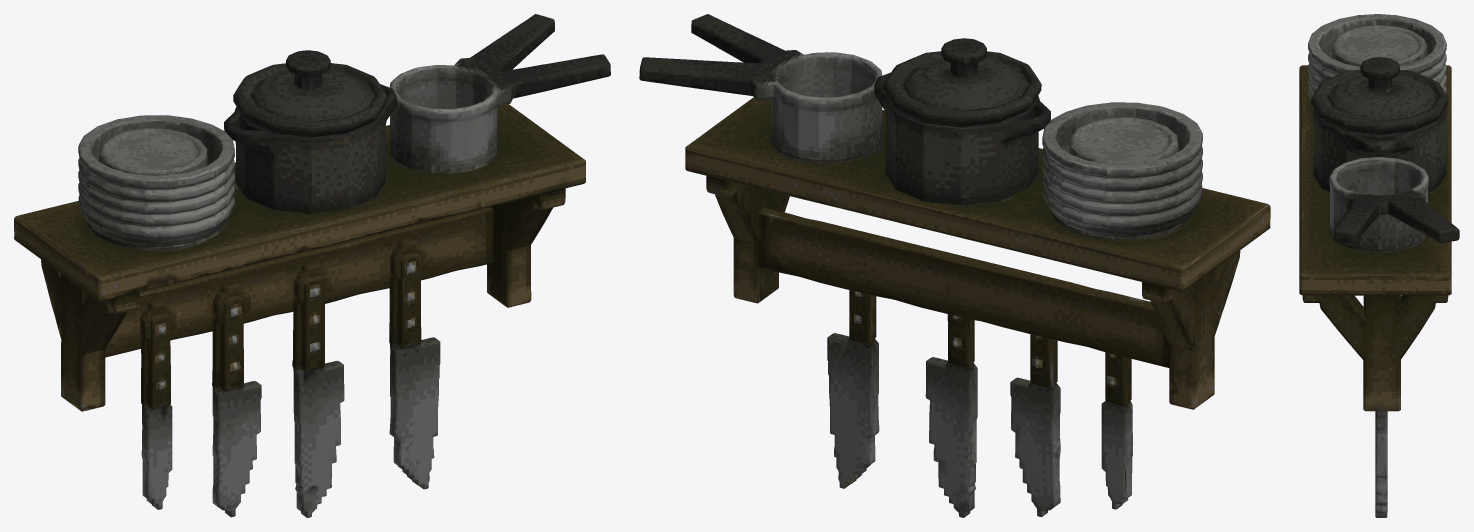
The model's file is shelf_psx.glb.
3 renders of one model, left to right at view 1: azimuth 30°, elevation 25°; view 2: azimuth 150°, elevation 25°; view 3: azimuth 270°, elevation 25°, orthographic. The views are drawn at different scales.
Parts seen in each view (by area): view 1: node_0; view 2: node_0; view 3: node_0.
Part boxes in pixels (x1,y1,x2,y2): node_0: (14,14,610,517); node_0: (639,14,1270,517); node_0: (1299,14,1459,517).
Size of the model in its own units: 1.01 by 0.8196 by 0.2949.
Materials: 1 (1 with a texture image).
